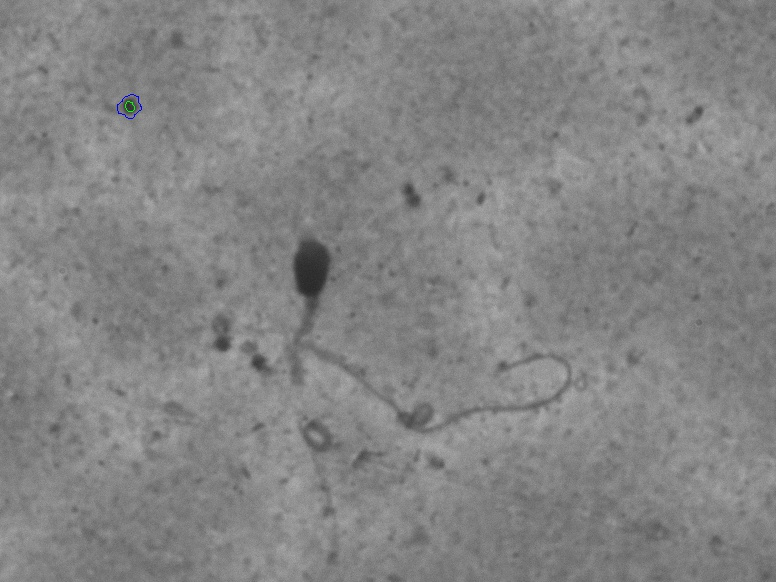Abnormal: (226, 211, 592, 458)
